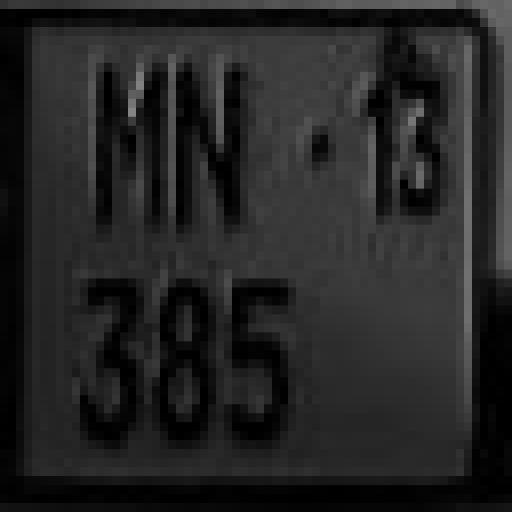3: (81, 272, 143, 452)
5: (222, 272, 310, 454)
8: (158, 278, 212, 462)
M: (93, 57, 165, 236)
N: (176, 61, 256, 245)
